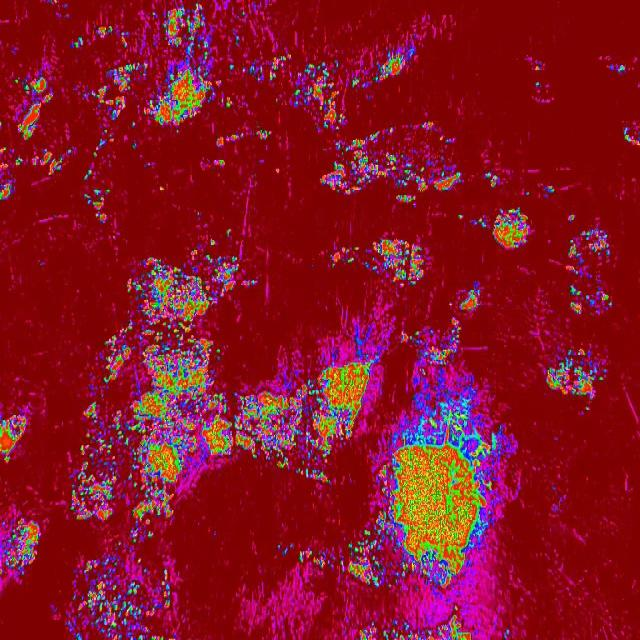fire: (66, 246, 238, 528), (378, 389, 509, 593), (238, 347, 380, 482), (312, 123, 463, 206), (67, 555, 179, 640), (142, 61, 220, 131), (288, 57, 346, 125), (354, 612, 477, 640), (546, 346, 608, 399), (93, 60, 141, 124), (364, 237, 424, 287), (397, 320, 462, 366), (0, 516, 41, 583), (12, 74, 53, 140), (162, 2, 211, 57), (564, 226, 612, 278), (347, 527, 378, 585), (492, 208, 534, 250), (368, 46, 416, 82), (568, 284, 614, 320), (0, 413, 27, 465), (83, 186, 114, 228), (296, 548, 347, 568), (0, 142, 16, 202), (32, 148, 66, 176), (328, 242, 362, 268), (458, 284, 480, 312), (621, 119, 640, 148), (270, 54, 288, 84), (126, 528, 152, 546), (212, 132, 244, 146), (247, 60, 264, 82), (605, 60, 631, 74), (485, 169, 501, 190), (472, 215, 488, 230), (95, 25, 114, 36), (238, 277, 257, 288), (210, 156, 227, 168), (276, 542, 290, 556), (70, 36, 84, 50), (255, 127, 269, 141), (542, 181, 555, 195), (121, 30, 130, 50), (95, 136, 107, 150), (224, 97, 235, 111), (416, 366, 431, 376), (351, 77, 362, 89), (84, 165, 92, 181), (232, 34, 242, 46), (502, 627, 511, 640), (568, 214, 578, 225), (46, 0, 58, 9), (142, 160, 152, 170), (130, 140, 140, 149), (225, 228, 234, 238), (16, 156, 24, 167), (92, 150, 101, 159), (454, 602, 462, 612), (534, 60, 542, 70), (228, 62, 236, 72), (209, 236, 217, 246), (194, 208, 202, 218), (150, 10, 158, 20), (157, 186, 166, 194), (524, 189, 533, 197), (583, 406, 591, 414), (534, 80, 542, 88), (240, 10, 247, 18), (67, 147, 74, 155), (458, 212, 463, 222), (116, 539, 122, 547), (276, 167, 282, 174), (274, 97, 280, 104), (0, 119, 3, 129)
